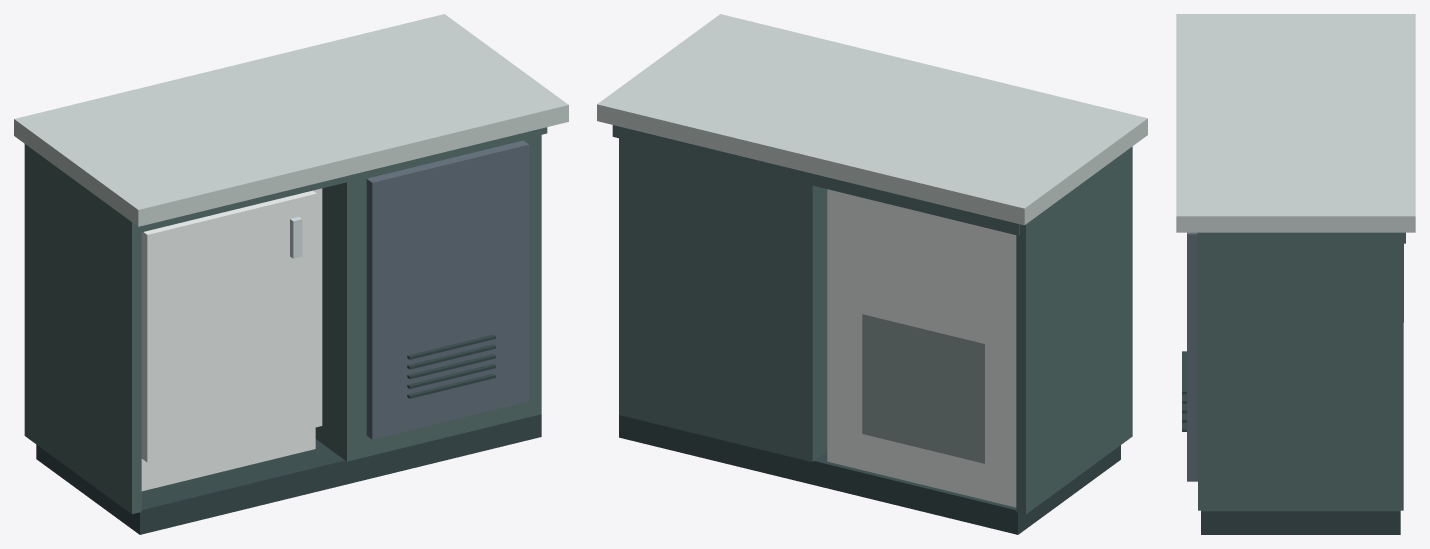
3 renders of one model, left to right at view 1: azimuth 30°, elevation 25°; view 2: azimuth 150°, elevation 25°; view 3: azimuth 270°, elevation 25°, orthographic. The views are drawn at different scales.
Visible parts, largest first — view 1: countertop, water-service-front, Mesh_doorFridge, left-upright, right-filter-housing, recessed-plinth, Mesh_kitchenFridgeSmall, underside-cross-member; view 2: countertop, right-filter-housing, Mesh_kitchenFridgeSmall, left-upright, Mesh_kitchenFridgeSmall_1, recessed-plinth, underside-cross-member; view 3: right-filter-housing, countertop, recessed-plinth, water-service-front, underside-cross-member.
Boxes of the visible parts, x1,y1,x2,y2 form: countertop: [14, 14, 568, 226]; water-service-front: [366, 140, 528, 439]; Mesh_doorFridge: [141, 190, 316, 462]; left-upright: [24, 144, 141, 514]; right-filter-housing: [315, 135, 541, 461]; recessed-plinth: [36, 414, 541, 534]; Mesh_kitchenFridgeSmall: [141, 188, 322, 491]; underside-cross-member: [138, 127, 547, 232]; countertop: [597, 14, 1147, 225]; right-filter-housing: [619, 138, 827, 461]; Mesh_kitchenFridgeSmall: [827, 189, 1016, 507]; left-upright: [1016, 146, 1132, 514]; Mesh_kitchenFridgeSmall_1: [862, 314, 984, 463]; recessed-plinth: [619, 415, 1120, 534]; underside-cross-member: [612, 125, 1019, 235]; right-filter-housing: [1198, 243, 1403, 510]; countertop: [1176, 14, 1415, 232]; recessed-plinth: [1201, 510, 1400, 534]; water-service-front: [1187, 232, 1197, 481]; underside-cross-member: [1197, 232, 1405, 243].
Size of the model in its own units: 1.2 by 0.9 by 0.6.
